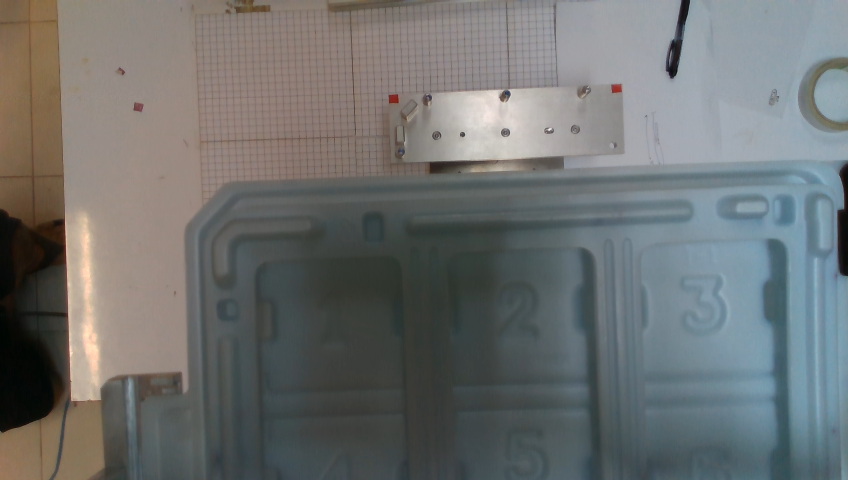red: (611, 84, 621, 93), (389, 95, 399, 103)
